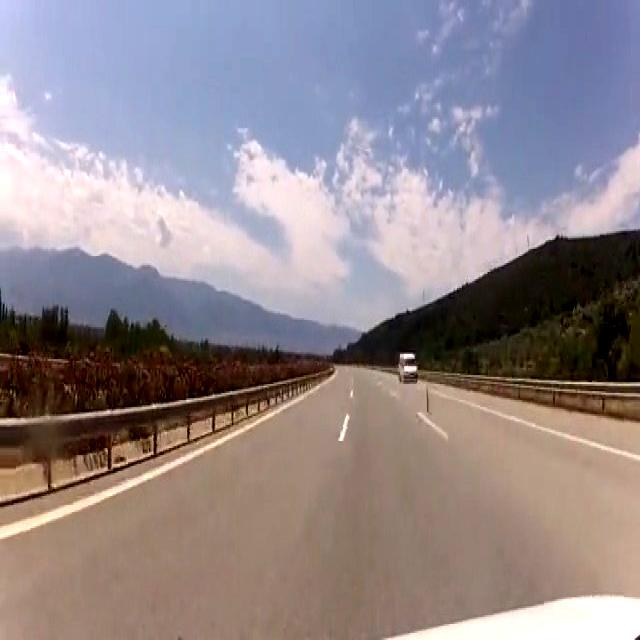road: (0, 366, 639, 636)
